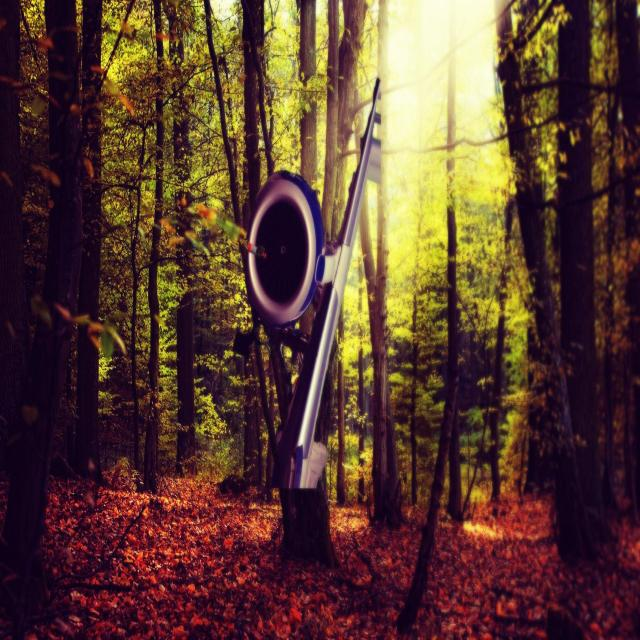airplane: (234, 75, 382, 490)
